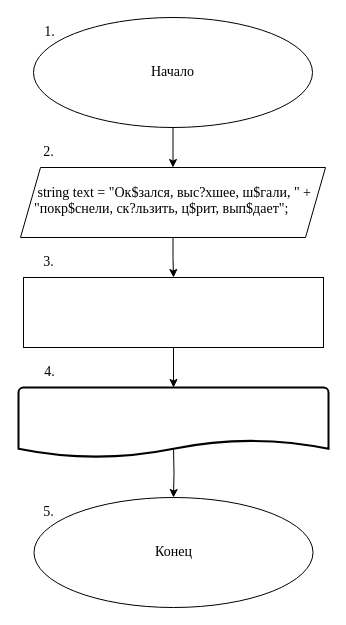
Some shapes in this 346 by 625 pixel diagram are drawn without their labels. The shapes that lost their labels are listed below. From the top down, each one's centre as x and y in pixels, then its label:
At (x=173, y=312): "text = text.Replace('$', 'а') .Replace('?', 'о');".
At (x=173, y=422): "Console.WriteLine(text);".
